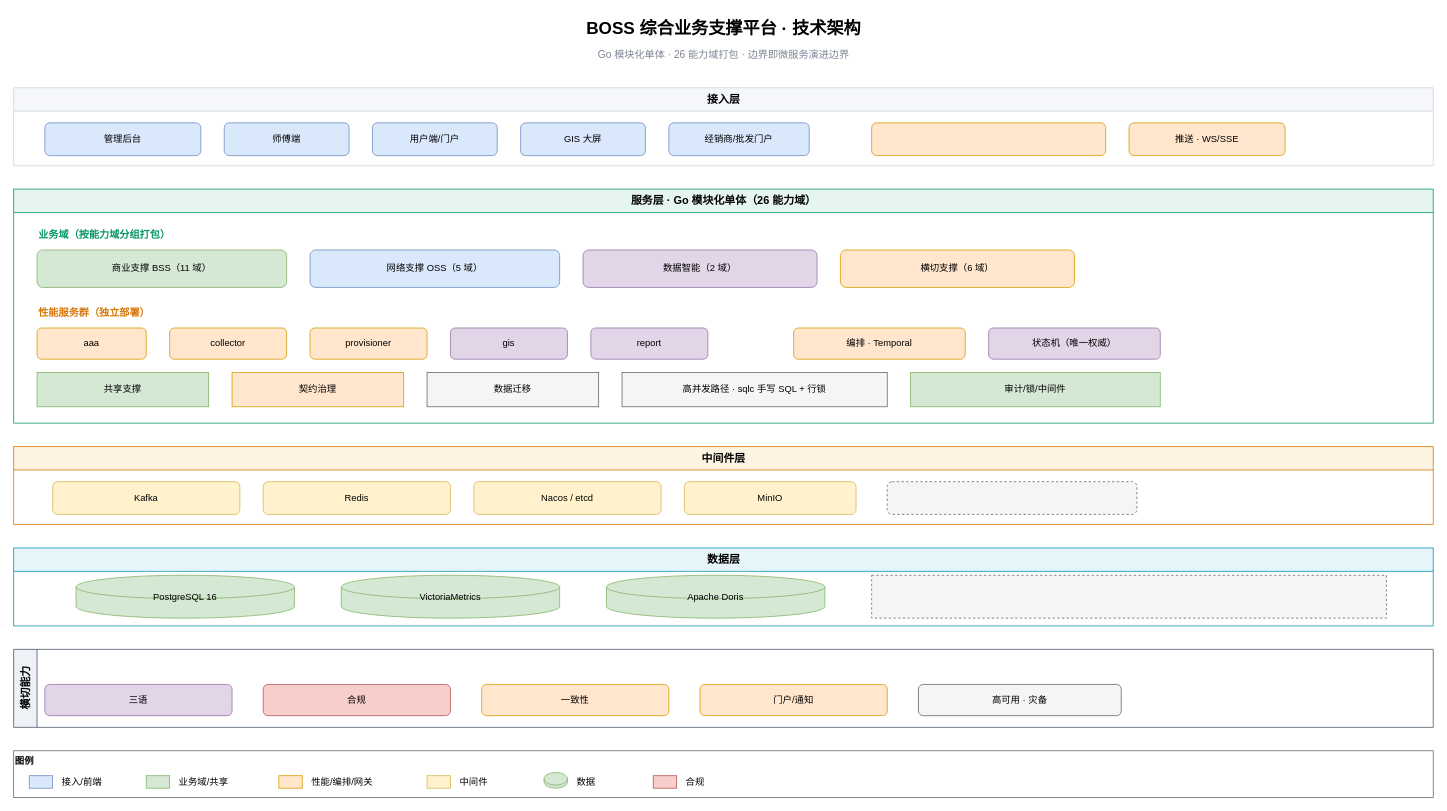
The diagram is 1447 pixels wide and 811 high, and some of its shapes have lost their labels. The shapes that lost their labels are listed below. From the top down, each one's centre as x and y in pixels, then its label:
(988,139): API 网关 · APISIX
(1011,497): 外部集成
(1128,596): 可观测 · K8s
